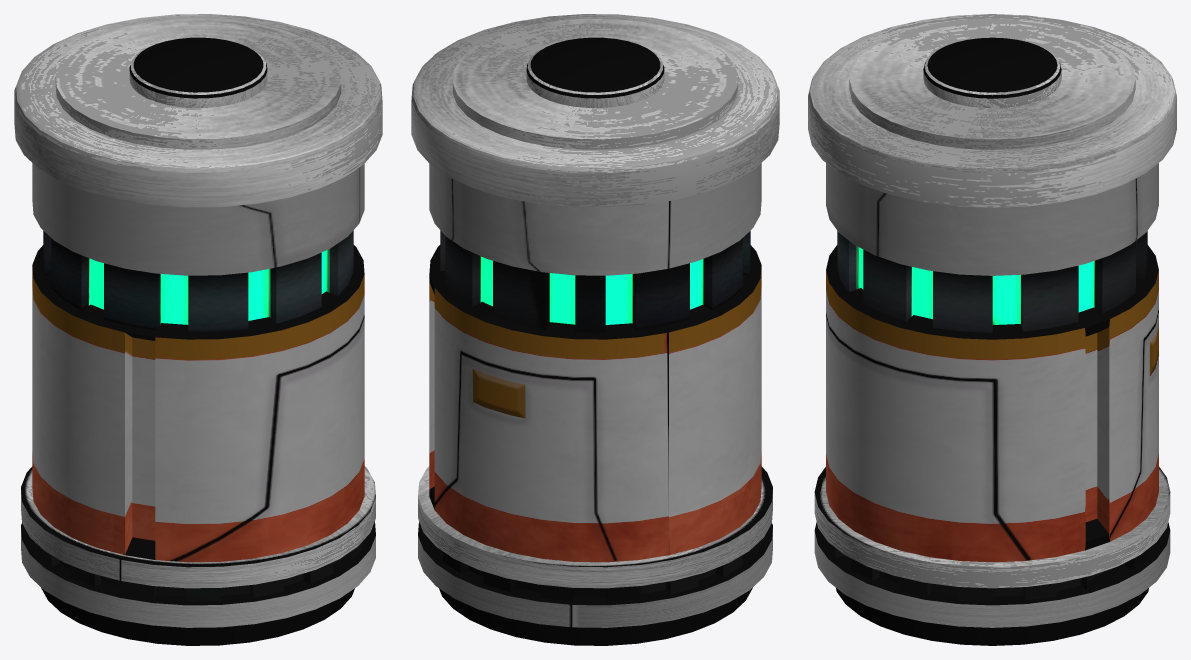
File: Canister.glb
3 renders of one model, left to right at view 1: azimuth 30°, elevation 25°; view 2: azimuth 150°, elevation 25°; view 3: azimuth 270°, elevation 25°, orthographic.
Parts seen in each view (by area): view 1: CAnister; view 2: CAnister; view 3: CAnister.
Boxes of the visible parts, <box> form: CAnister: <box>14,14,382,645</box>; CAnister: <box>411,14,779,645</box>; CAnister: <box>808,14,1176,645</box>.
Bounding box in the file's own units: 1.92 × 2.95 × 1.92.
Materials: 1 (1 with a texture image).
